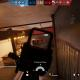Character: (39, 40, 41, 44)
Friend_label: (71, 15, 74, 17)
